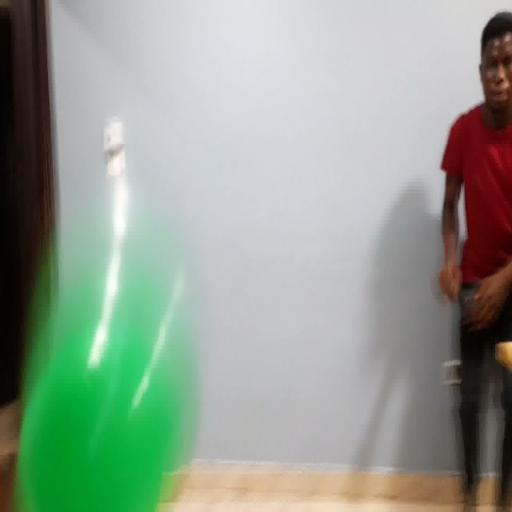plastic-ball: (16, 191, 197, 512)
